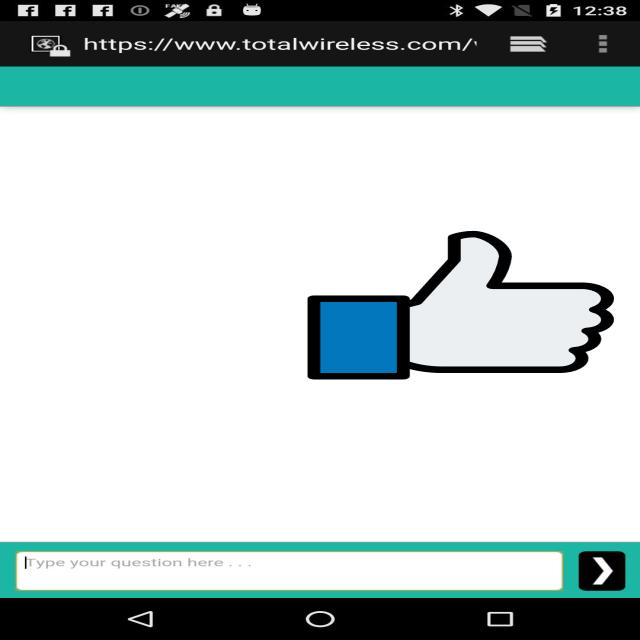privacy zuckering: (307, 228, 614, 382)
